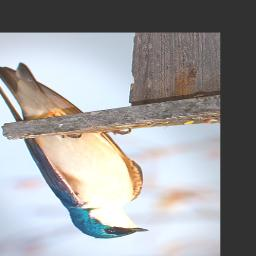Swallow: (0, 62, 150, 240)
